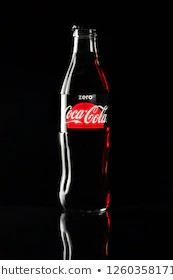coke-glass-bottle: (51, 21, 117, 215)
